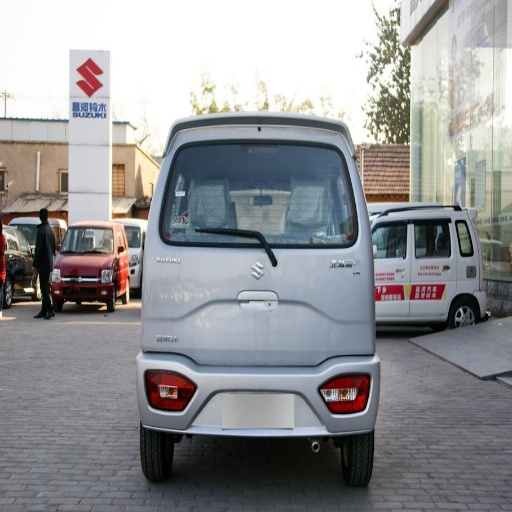back_bumper: (140, 330, 383, 434)
back_glass: (164, 161, 343, 239)
trunk: (142, 240, 408, 367)
